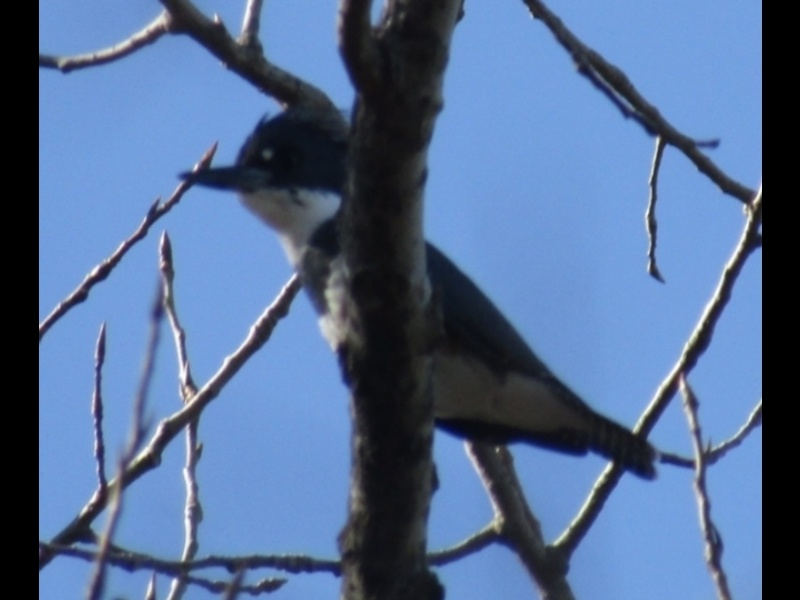kingfisher: (172, 99, 662, 486)
